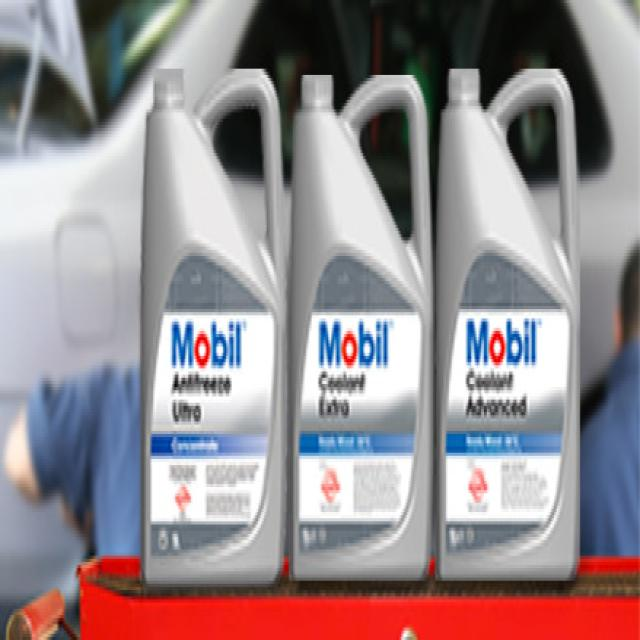motor_oil: (136, 56, 286, 596), (437, 52, 585, 590), (290, 53, 434, 587)
